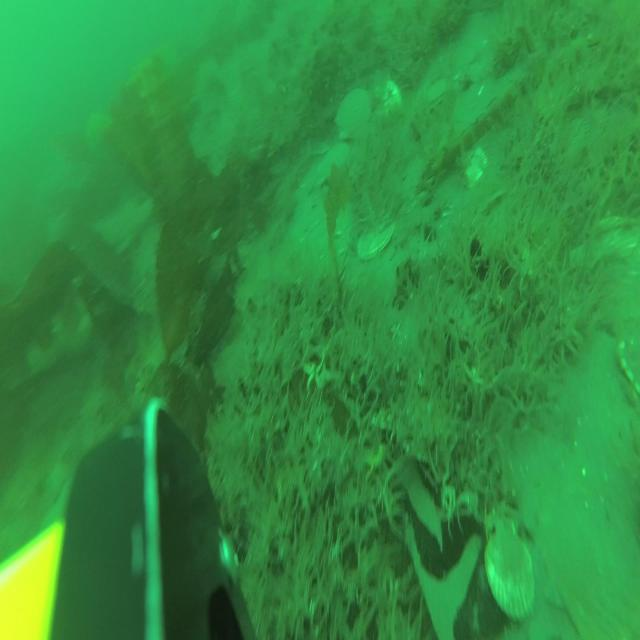scallop: (485, 520, 532, 617), (334, 84, 372, 141), (358, 220, 394, 260), (320, 142, 351, 182), (426, 73, 454, 110), (464, 144, 487, 182), (383, 82, 402, 117)
